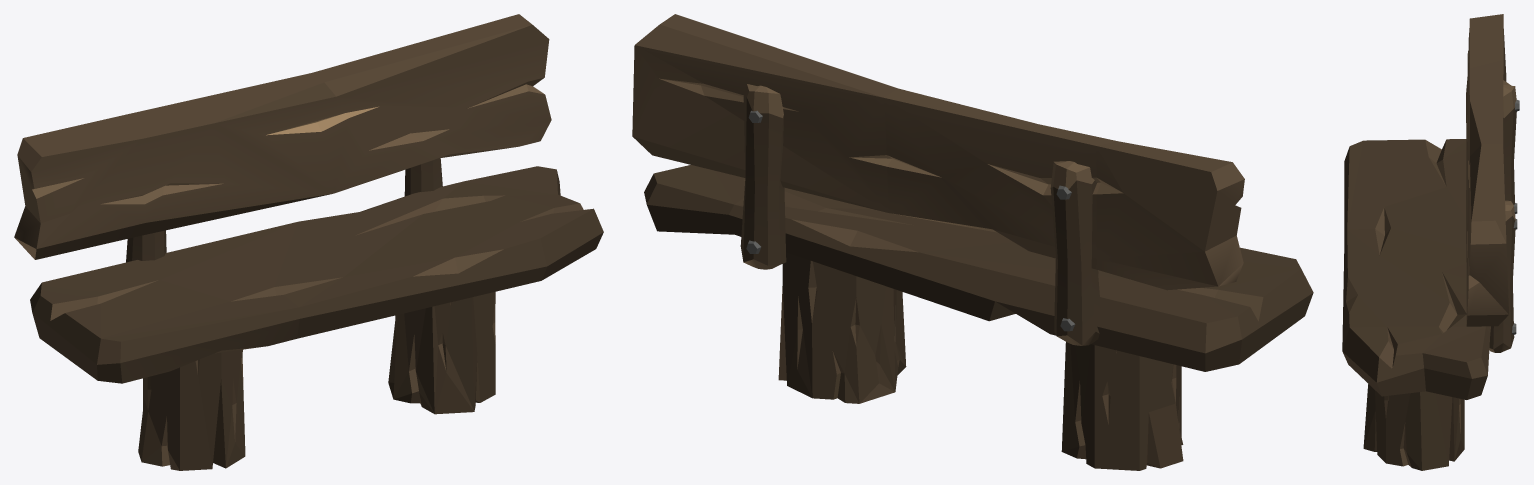
Rendered from alp_Prop_Bench_01.glb.
3 views of the same model, side by side, from view 1: azimuth 30°, elevation 25°; view 2: azimuth 150°, elevation 25°; view 3: azimuth 270°, elevation 25° (orthographic). The views are drawn at different scales.
Visible parts, largest first — view 1: SM_Prop_Bench_01; view 2: SM_Prop_Bench_01; view 3: SM_Prop_Bench_01.
Part boxes in pixels (x1,y1,x2,y2): SM_Prop_Bench_01: (14, 14, 603, 470); SM_Prop_Bench_01: (632, 14, 1313, 470); SM_Prop_Bench_01: (1342, 14, 1519, 470).
Size of the model in its own units: 1.8 by 1.02 by 0.5868.
Materials: 1 (1 with a texture image).
